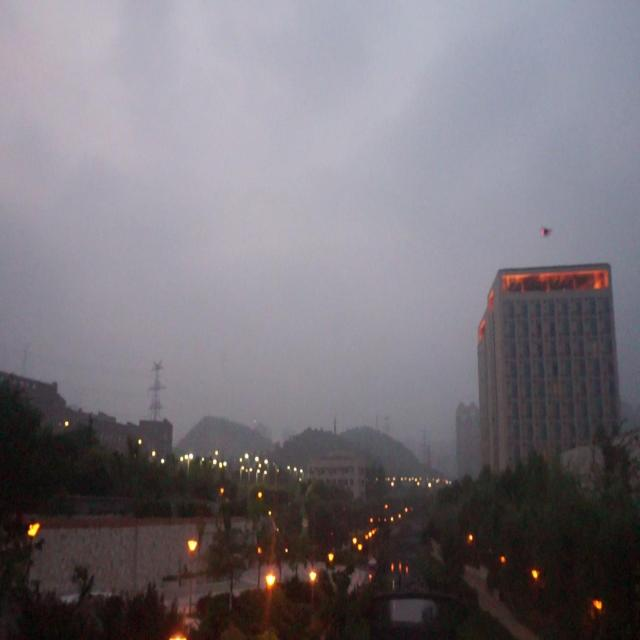drone: (537, 224, 554, 241)
